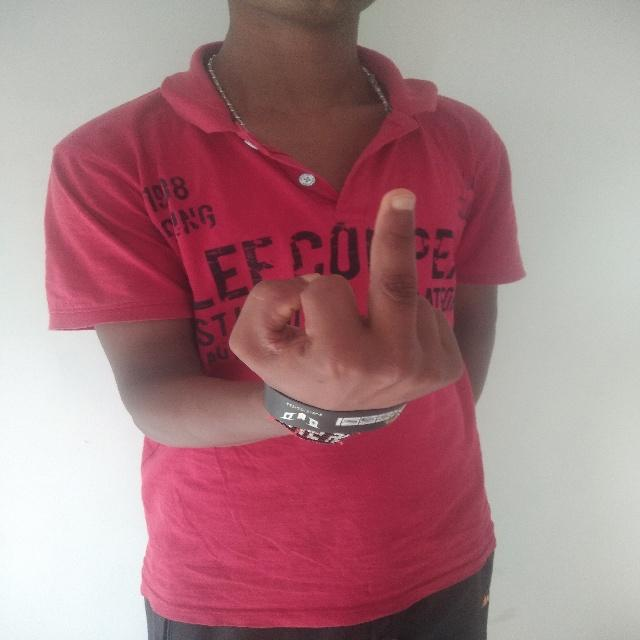Middle Finger: (225, 180, 468, 446)
